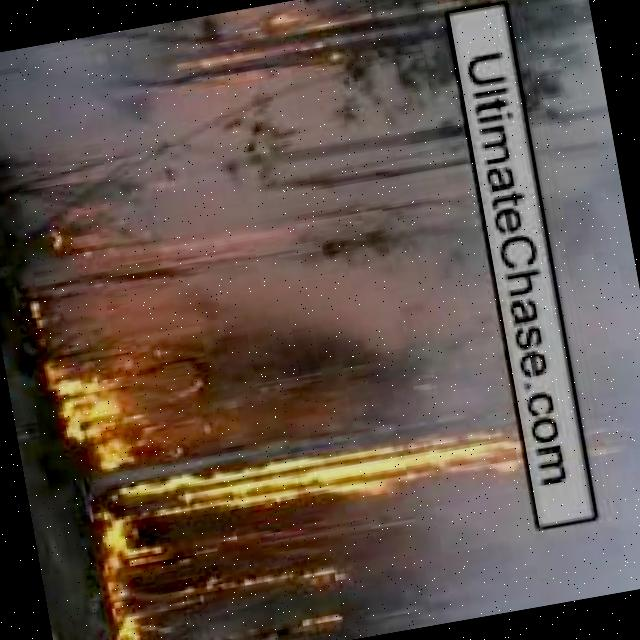fire: (89, 412, 599, 568), (162, 0, 379, 92), (44, 346, 158, 470), (43, 208, 116, 264), (107, 576, 162, 640)
